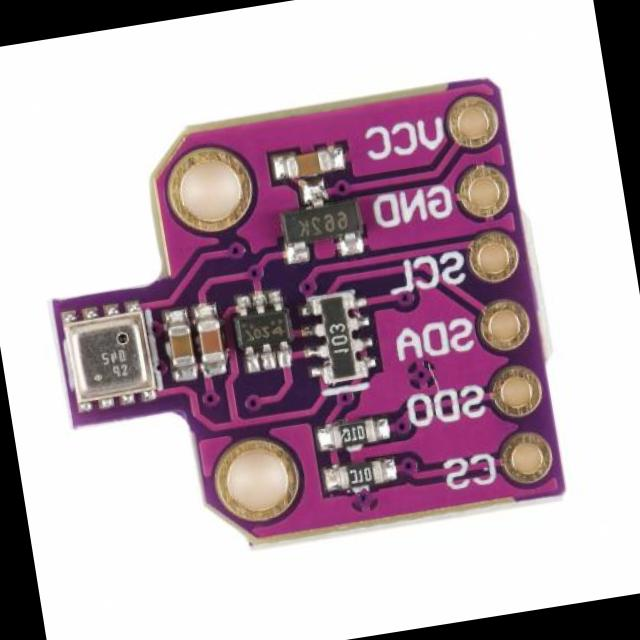IC: (228, 294, 298, 364)
capacitor: (274, 142, 336, 188), (187, 310, 230, 374), (161, 314, 198, 376)
resistor: (312, 287, 370, 383), (331, 451, 392, 496), (328, 414, 384, 454)
transistor: (270, 187, 368, 263)
